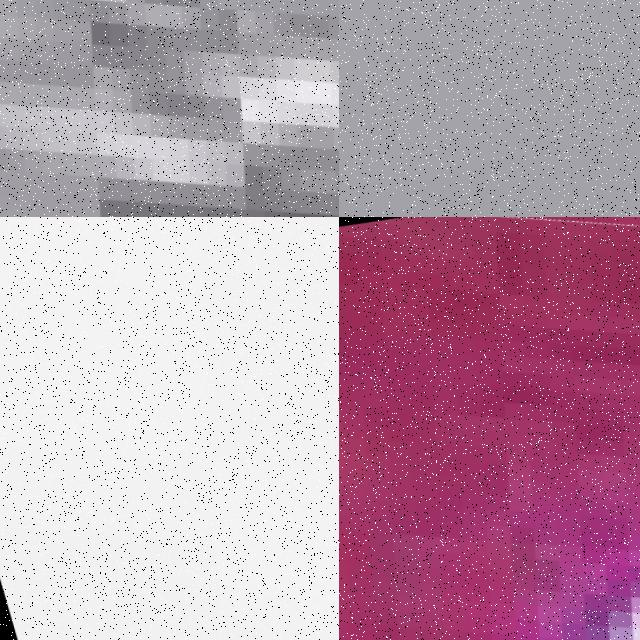drone: (0, 217, 339, 640), (339, 217, 640, 640), (0, 0, 339, 217)
